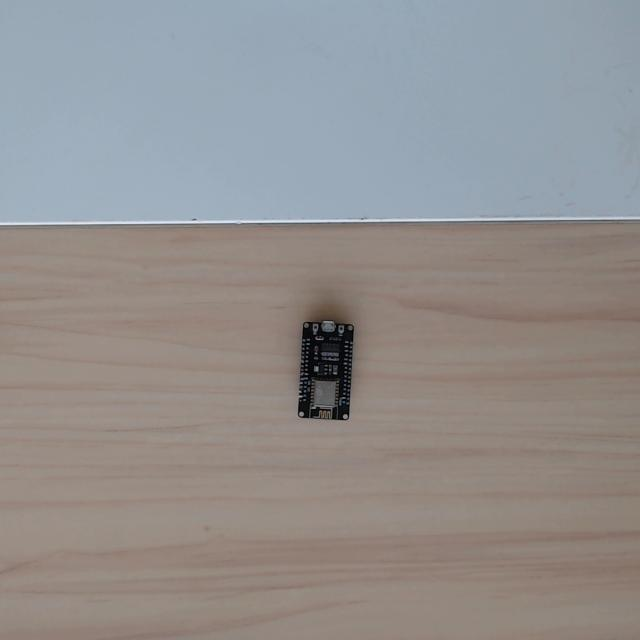ESP8266-NodeMCU: (296, 319, 356, 424)
